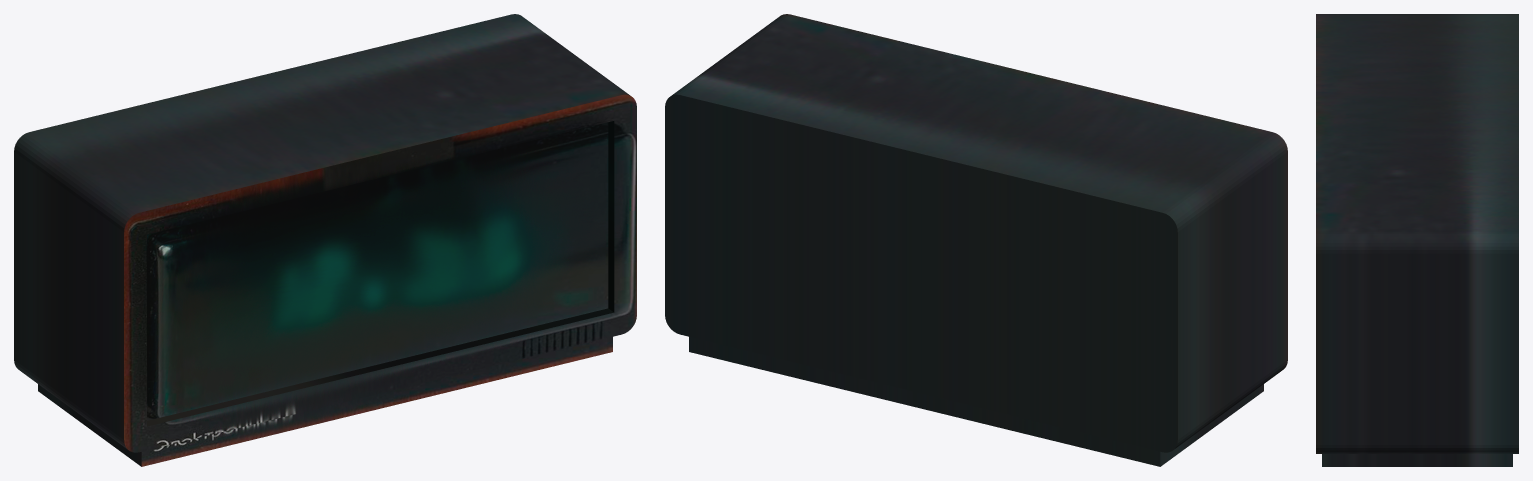
File: clock.glb
The picture shows the model from 3 angles, left to right: view 1: azimuth 30°, elevation 25°; view 2: azimuth 150°, elevation 25°; view 3: azimuth 270°, elevation 25°; orthographic projection. The views are drawn at different scales.
Visible parts, largest first — view 1: env_clock-col; view 2: env_clock-col; view 3: env_clock-col.
Boxes of the visible parts, <box> form: env_clock-col: <box>14,14,636,466</box>; env_clock-col: <box>665,14,1287,466</box>; env_clock-col: <box>1316,14,1518,466</box>.
Bounding box in the file's own units: 0.6497 × 0.3123 × 0.2417.
1 material, 1 textured.
